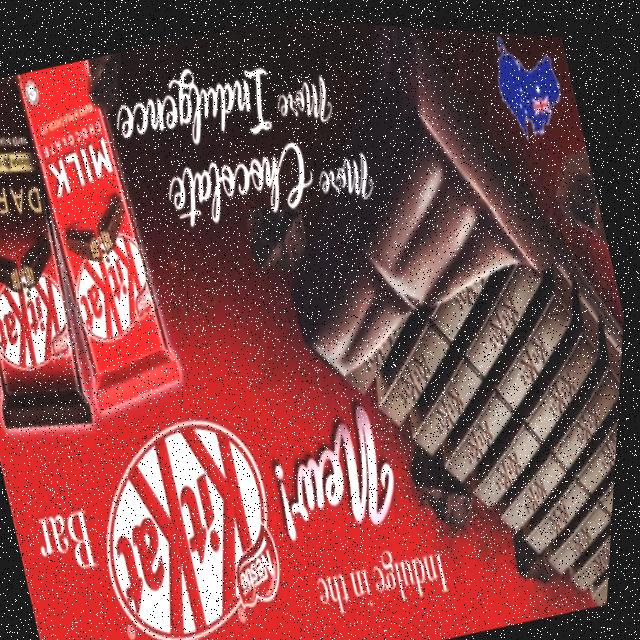kitkat: (2, 49, 203, 416), (0, 80, 122, 450)
